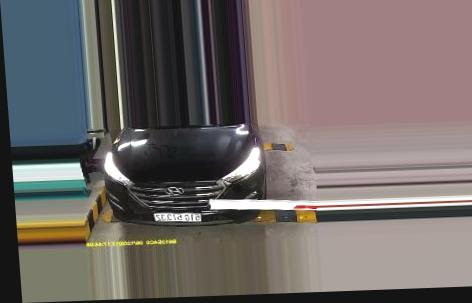License_Plate: (151, 209, 205, 225)
